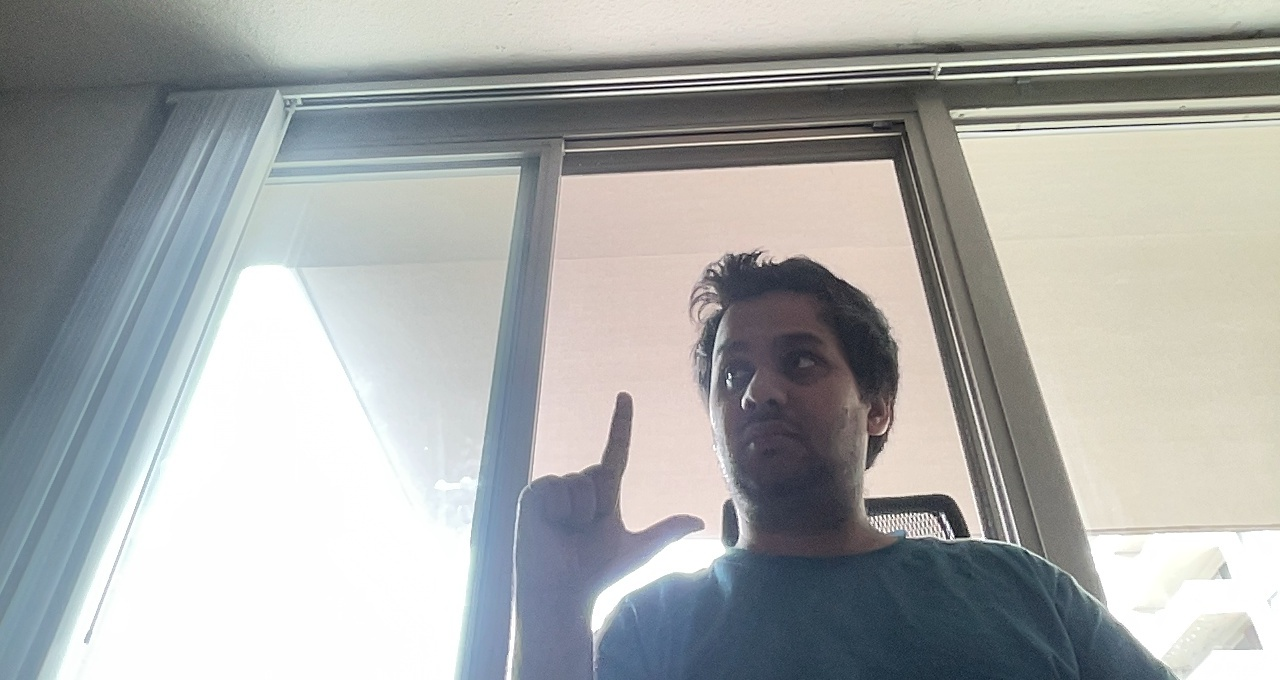L: (505, 385, 718, 639)
